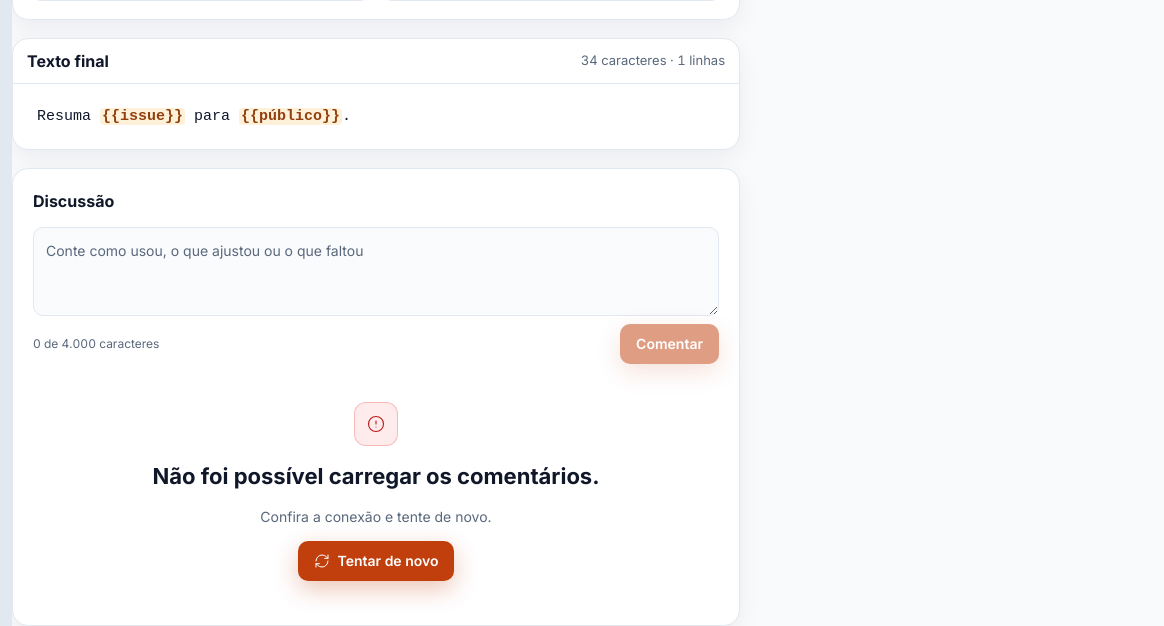
it: ItemDetail › erro ao carregar a discussão mostra "Tentar de novo"
(page scrolled)
Expected: the heading "Não foi possível carregar os comentários." is shown, [152, 460, 600, 493]
Click the button "Tentar de novo": (376, 561) [298, 541, 454, 581]
(page scrolled)
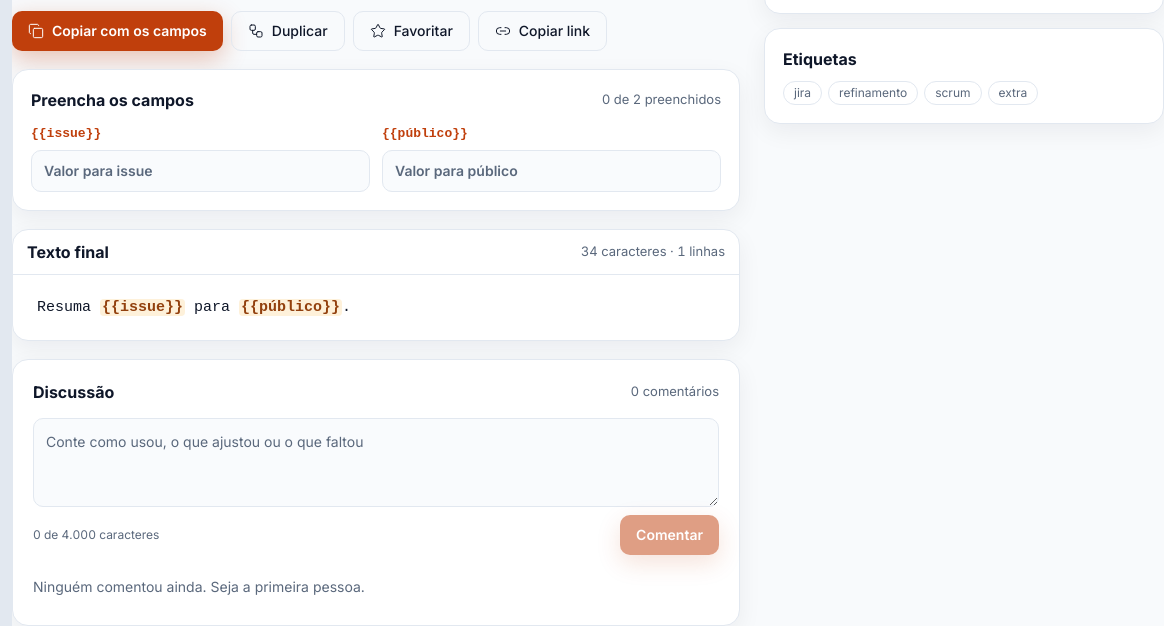
Now the text "Ninguém comentou ainda. Seja a primeira pessoa." is shown, box [33, 578, 365, 595]
